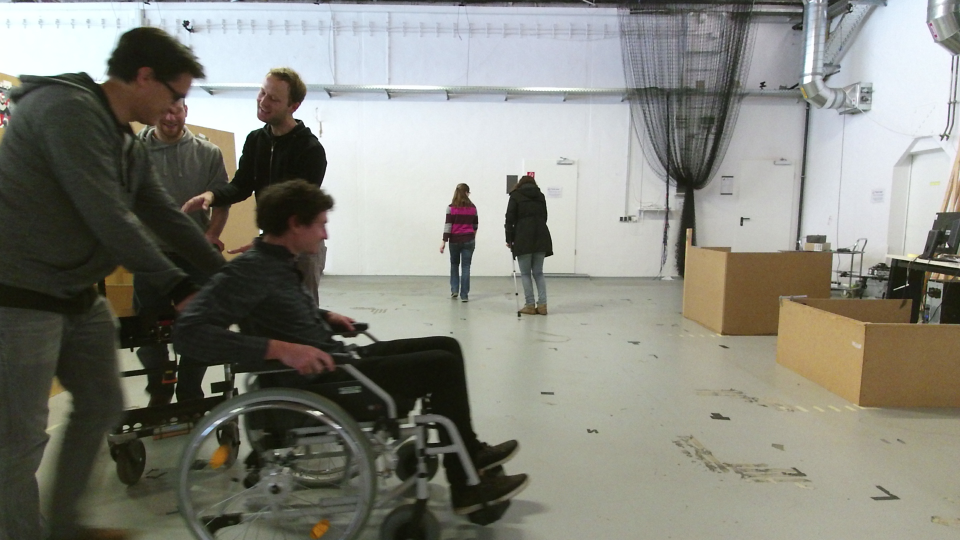crutches: (502, 166, 556, 321)
